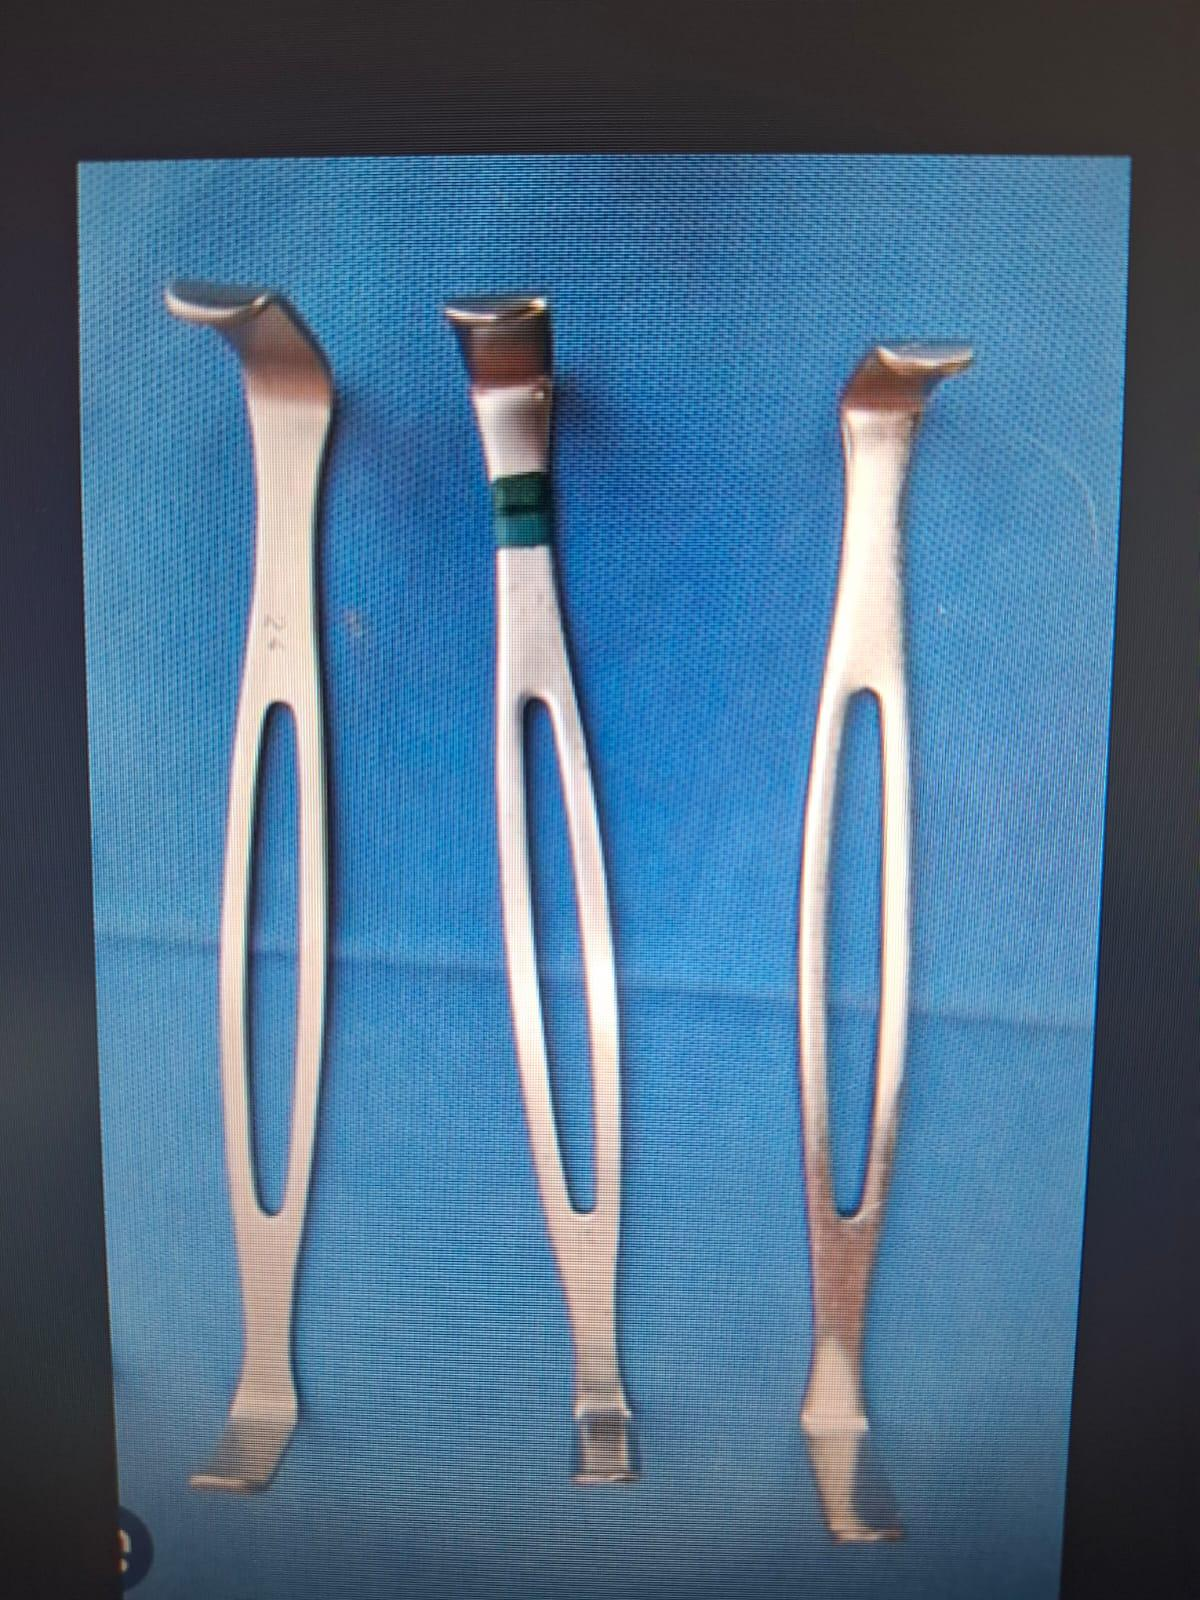Army Navy Retractor: (142, 239, 377, 1500), (768, 317, 992, 1567)
